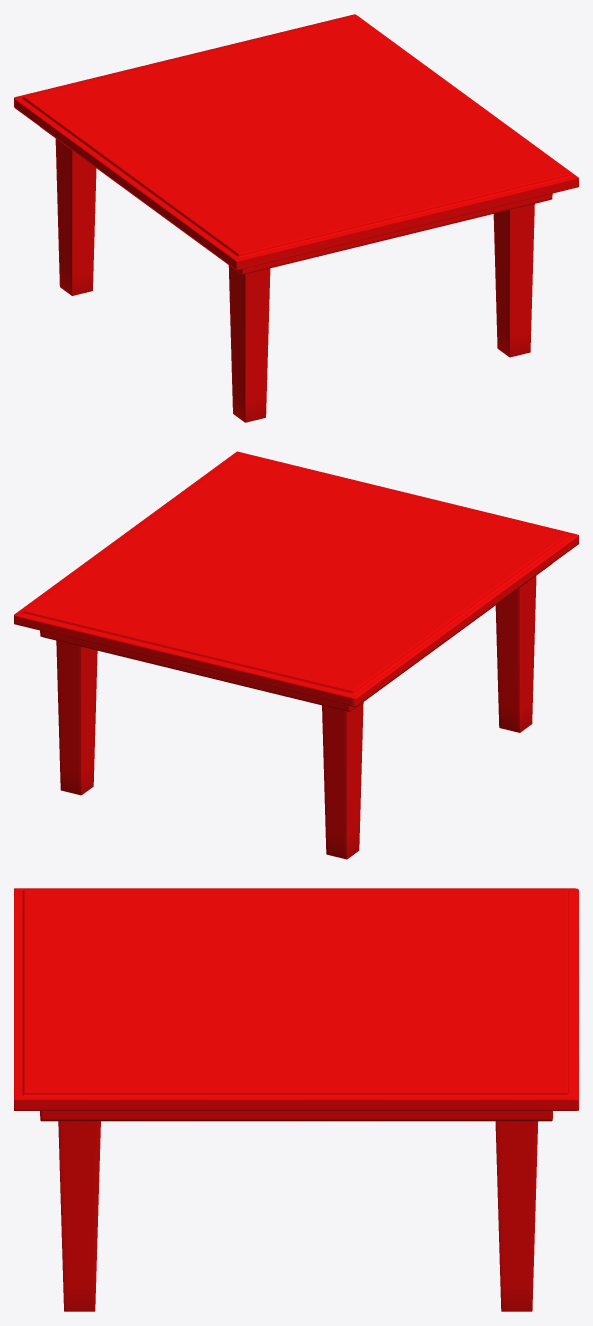
Rendered from SM_Table.FBX.
The picture shows the model from 3 angles, top to bottom: view 1: azimuth 30°, elevation 25°; view 2: azimuth 150°, elevation 25°; view 3: azimuth 270°, elevation 25°; orthographic projection. The views are drawn at different scales.
Parts seen in each view (by area): view 1: table LP; view 2: table LP; view 3: table LP.
Boxes of the visible parts, x1=… form: table LP: x1=14, y1=14, x2=578, y2=422; table LP: x1=14, y1=451, x2=578, y2=859; table LP: x1=14, y1=888, x2=578, y2=1311.
Size of the model in its own units: 208 by 108 by 236.
